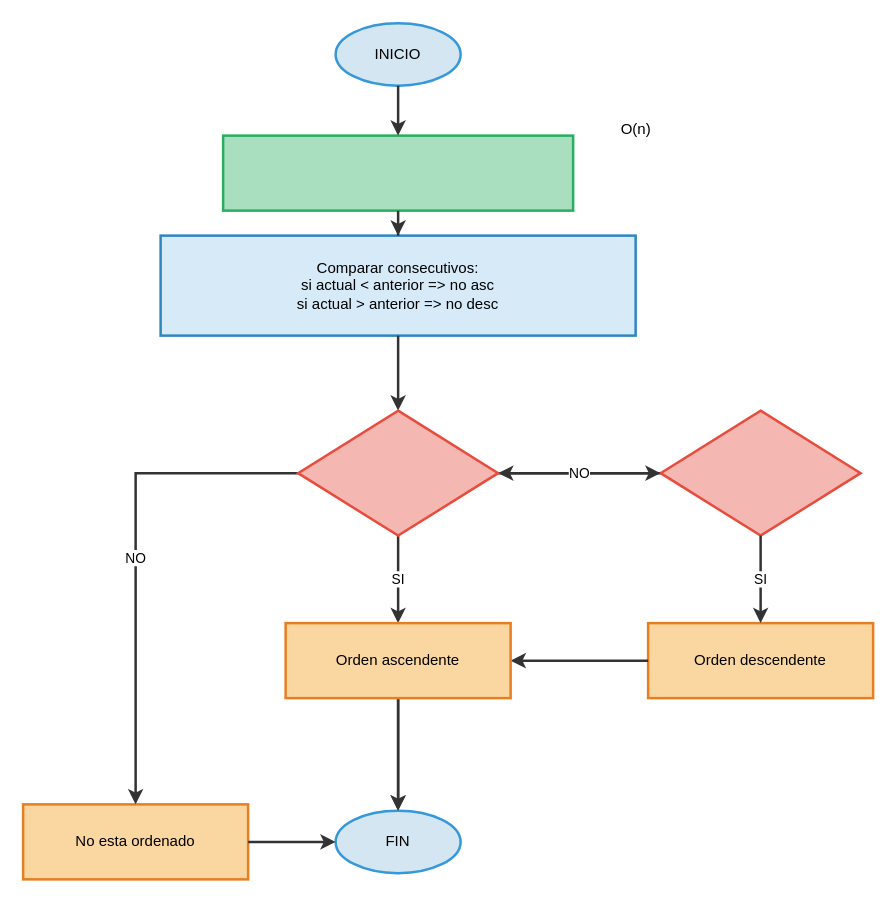
Some shapes in this 895 by 901 pixel diagram are drawn without their labels. Each missing label, with the centre of its shape:
"Leer serie (9999 termina)" belongs at (397,172).
"¿Ascendente?" belongs at (397,472).
"¿Descendente?" belongs at (760,472).
